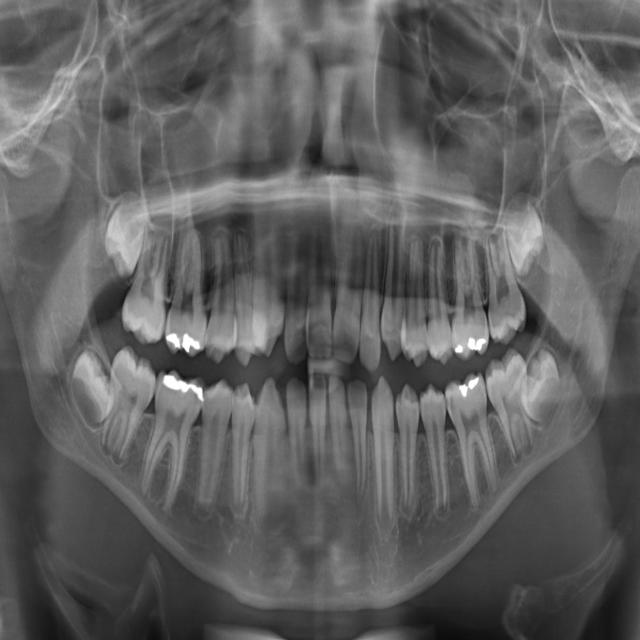AmalgamRestoration: (158, 372, 204, 406), (167, 332, 203, 352), (458, 372, 481, 397), (468, 334, 487, 354), (456, 341, 466, 359)
DentalCaries: (445, 393, 464, 422), (186, 396, 202, 429)
